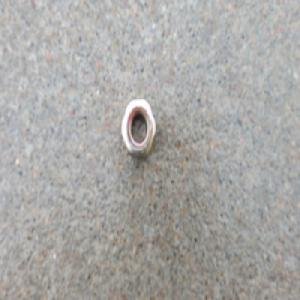Nut: (120, 96, 157, 160)
